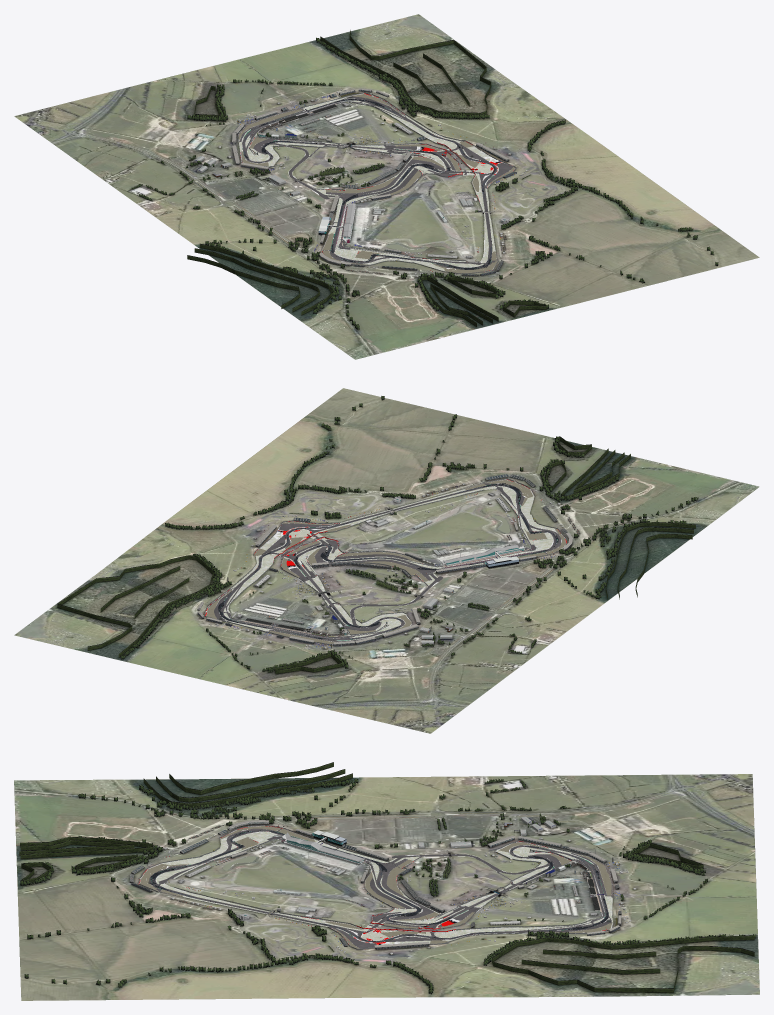
File: silverstone.glb
3 renders of one model, top to bottom at view 1: azimuth 30°, elevation 25°; view 2: azimuth 150°, elevation 25°; view 3: azimuth 270°, elevation 25°, orthographic. The views are drawn at different scales.
Parts seen in each view (by area): view 1: silverstone_24, 4gt_24, grandstands; view 2: silverstone_24, 4gt_24, grandstands; view 3: silverstone_24, 4gt_24, grandstands, 8_24.
Part boxes in pixels (box(x1,y1,x2,y2)): silverstone_24: box(14, 14, 759, 359); 4gt_24: box(228, 92, 515, 273); grandstands: box(232, 88, 516, 275); silverstone_24: box(14, 388, 759, 733); 4gt_24: box(204, 478, 566, 646); grandstands: box(197, 474, 572, 644); silverstone_24: box(14, 762, 759, 1000); 4gt_24: box(137, 823, 627, 949); grandstands: box(130, 820, 622, 947); 8_24: box(147, 824, 631, 953).
Bounding box in the file's own units: 2101 × 43.62 × 2836.
61 materials, 56 textured.
